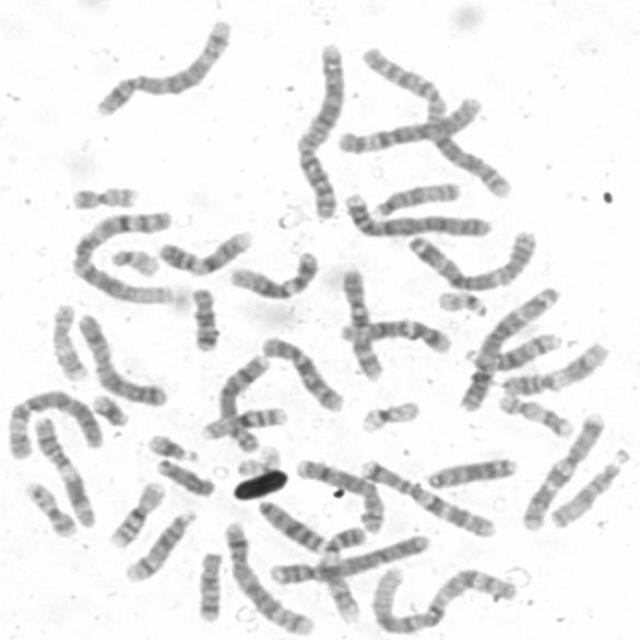A1: (366, 561, 520, 634), (68, 207, 177, 307)
A2: (355, 43, 517, 200), (292, 39, 347, 222)
A3: (454, 282, 562, 414), (403, 225, 538, 293)
B4: (263, 530, 433, 586), (338, 190, 492, 240)
B5: (90, 16, 234, 120), (220, 517, 316, 636)
C10: (258, 332, 345, 414), (338, 266, 384, 383)
C11: (30, 414, 99, 529), (497, 338, 612, 398)
C12: (225, 248, 320, 300), (336, 315, 454, 356)
C6: (332, 93, 485, 156), (1, 385, 104, 462)
C7: (357, 456, 496, 539), (517, 409, 607, 533)
C8: (292, 456, 386, 536), (215, 352, 271, 456)
C9: (318, 523, 370, 626), (154, 225, 254, 278)
D13: (253, 496, 328, 554), (422, 454, 518, 491)
D14: (120, 506, 198, 584), (459, 328, 564, 372)
D15: (545, 446, 630, 530), (369, 177, 461, 219)
E16: (104, 478, 166, 549), (197, 404, 288, 441)
E17: (495, 392, 574, 439), (48, 300, 89, 383)
E18: (186, 284, 222, 355), (193, 547, 225, 625)
F19: (356, 397, 422, 435), (233, 444, 280, 478)
F20: (20, 480, 80, 541), (68, 182, 140, 211)
G21: (144, 431, 201, 463), (89, 390, 131, 428)
G22: (106, 245, 162, 278), (434, 286, 489, 319)
X: (73, 310, 169, 408)
Y: (154, 458, 217, 498)
